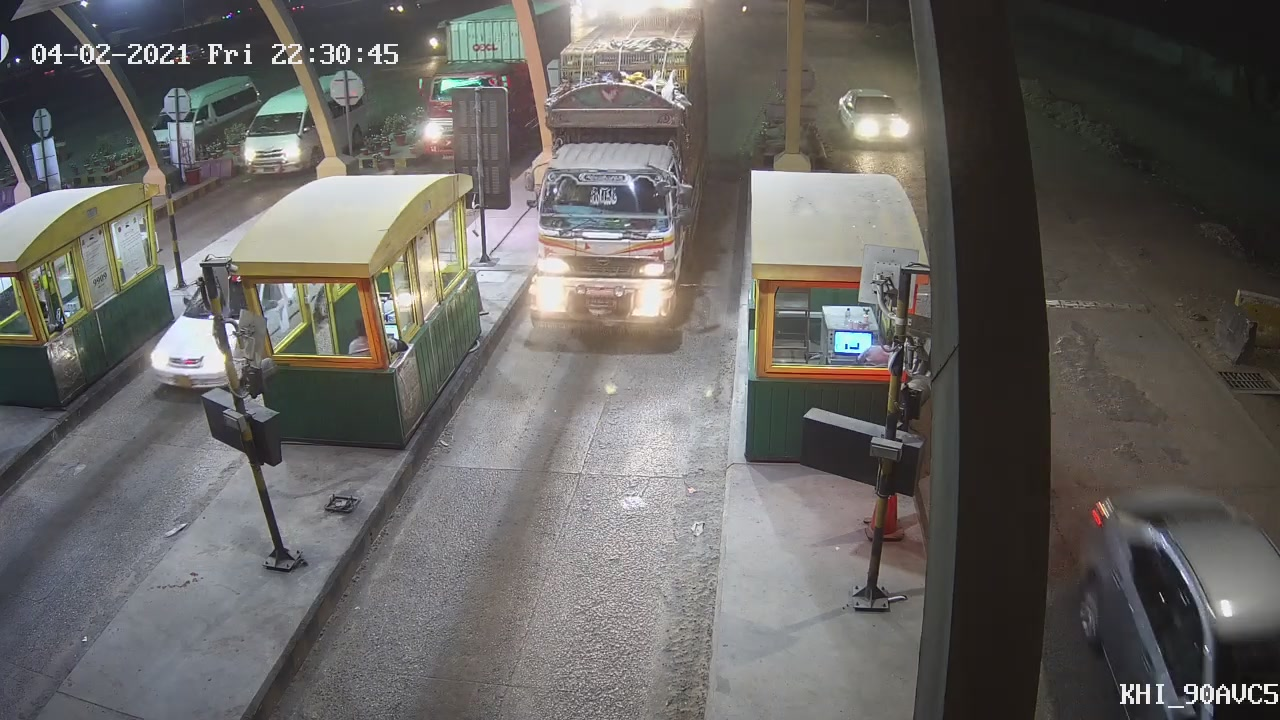F5: (512, 10, 727, 340)
